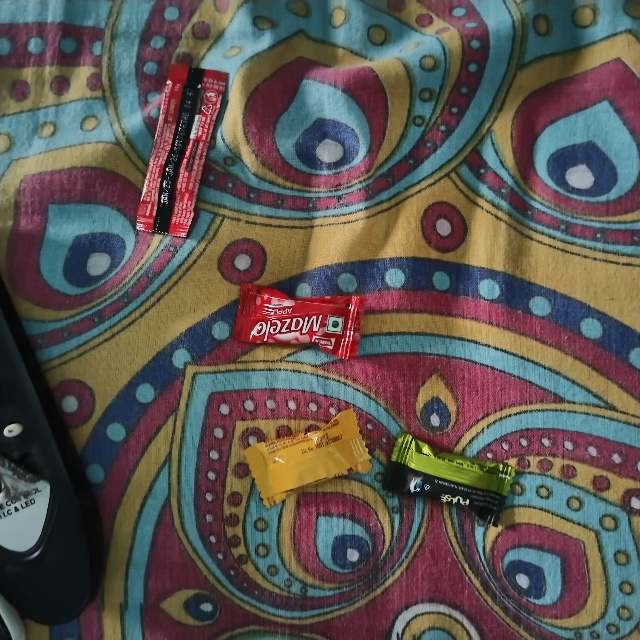Alpenlibe Creamfills: (238, 450, 366, 517)
Mazelo: (239, 276, 371, 343)
Nescafe Coffee: (169, 59, 235, 237)
Pulse: (399, 430, 524, 495)
